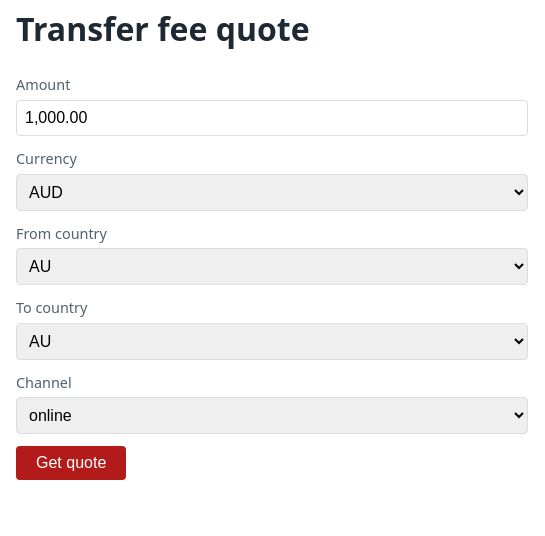
App › shows the API validation message when the request is rejected
This screenshot has width=545, height=536.
What coordinates should you click on to do the following:
click the button "Get quote"
I would click on:
 (71, 464)
Its box is [16,446,126,480].
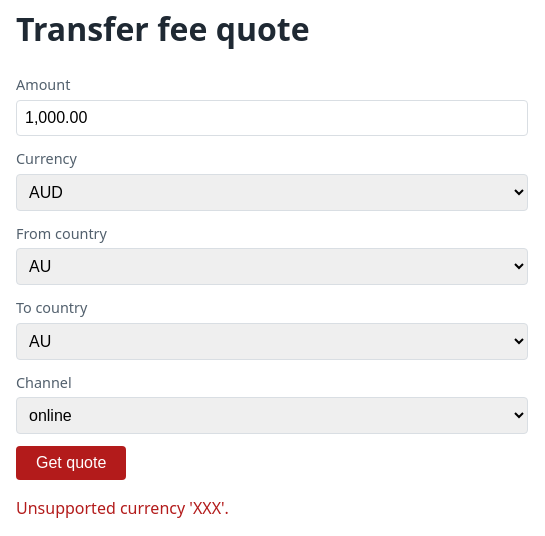
expect the message reads "Unsupported currency 'XXX'.": met, box [16,498,229,520]
